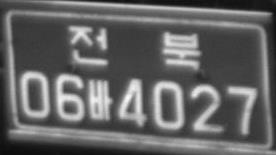0: (152, 79, 186, 131), (20, 69, 50, 118)
2: (190, 82, 224, 132)
4: (117, 77, 147, 126)
6: (55, 72, 86, 122)
7: (227, 84, 258, 135)
바: (87, 79, 113, 122)
전북_D: (67, 24, 201, 71)
